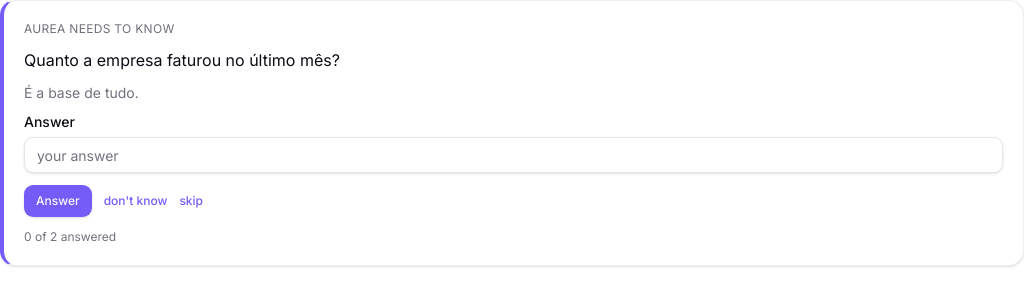
AiFillPanel › accepts zero as an answer
In the field labelled "Answer": (514, 155) [24,137,1003,173], type "0"
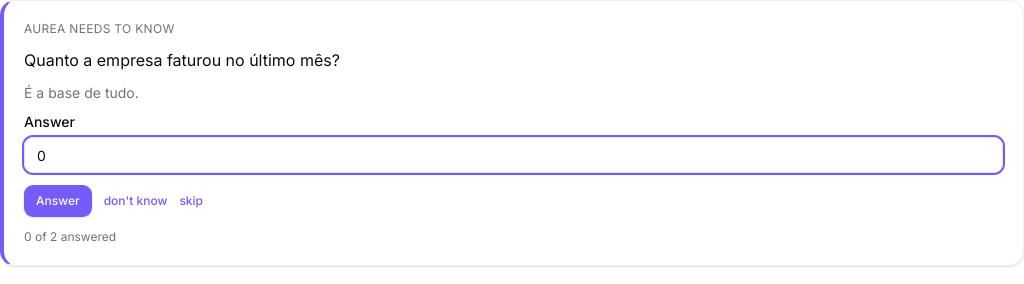
Click the button "Answer": (58, 201) [24,185,92,217]
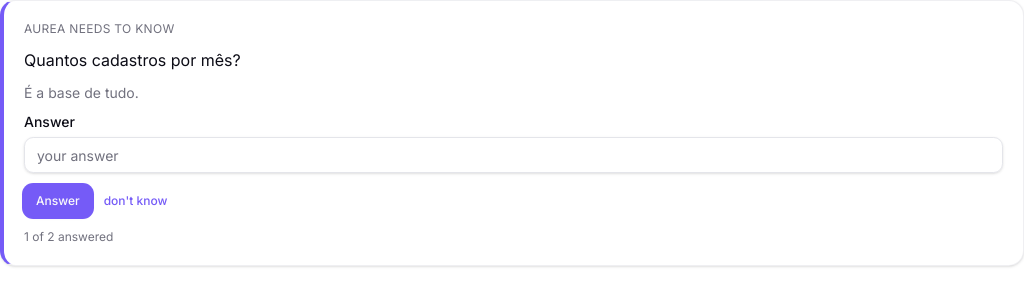
Now the text "1 of 2 answered" is shown, box [24,229,113,244]
